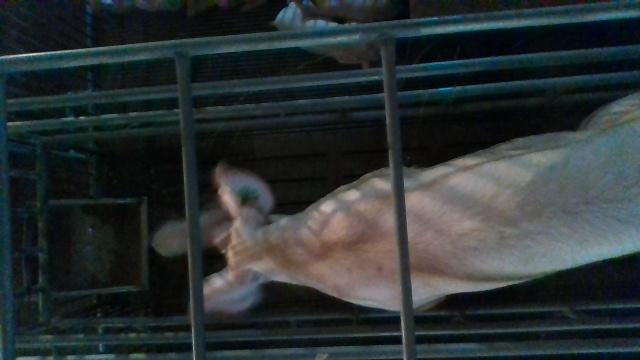piglet: (271, 2, 375, 63), (150, 207, 238, 257)
sow-stand: (205, 89, 640, 315)
